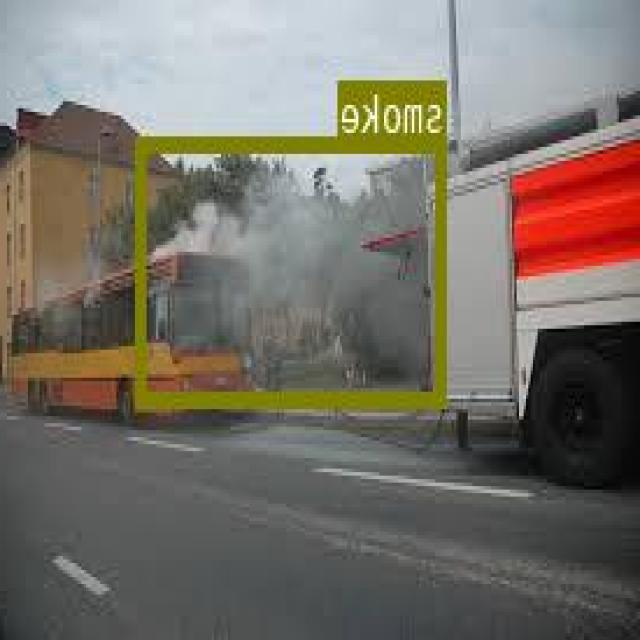smoke: (138, 136, 448, 404)
